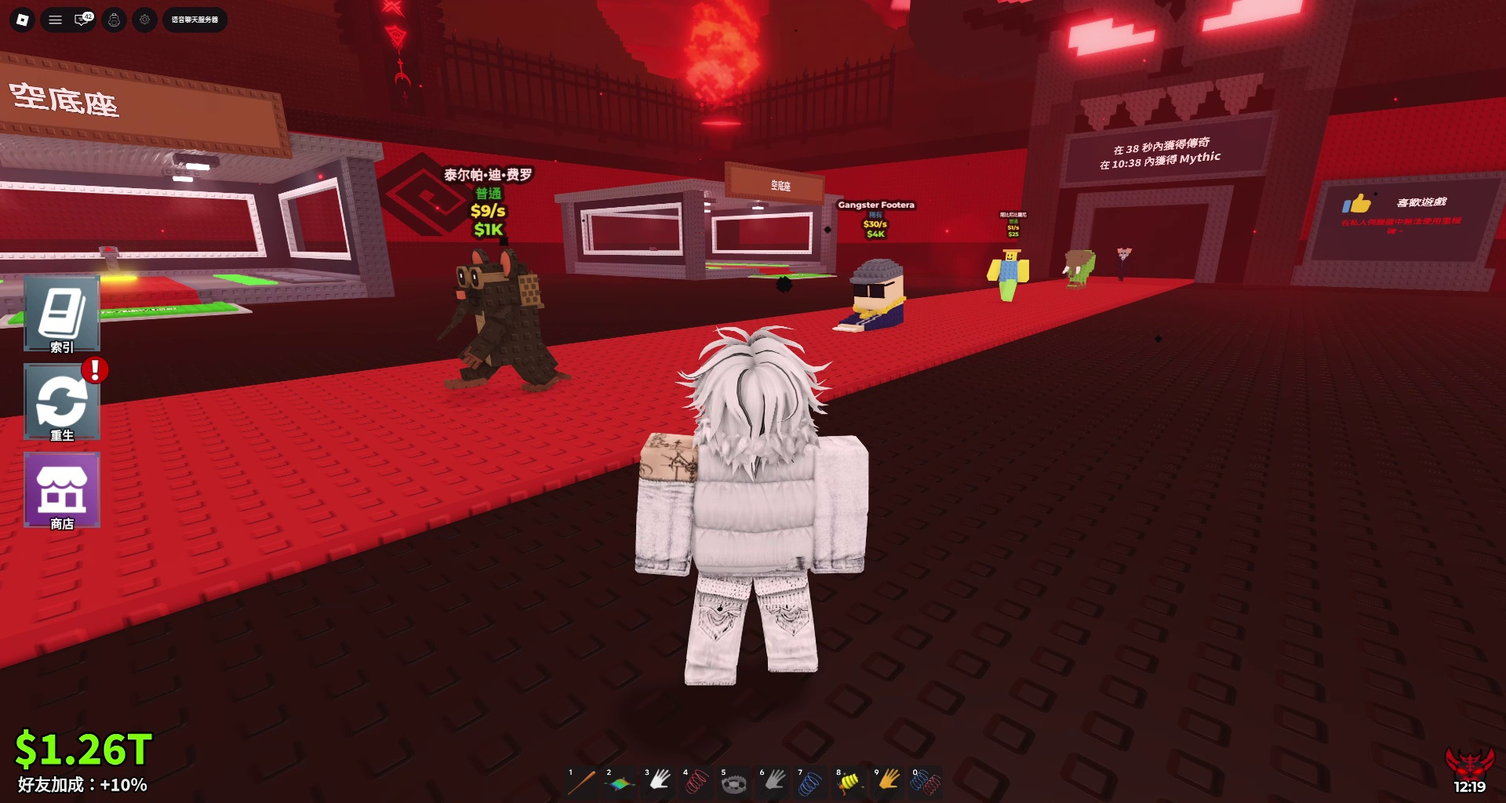price_tag: (367, 177, 418, 215), (835, 196, 874, 218)
